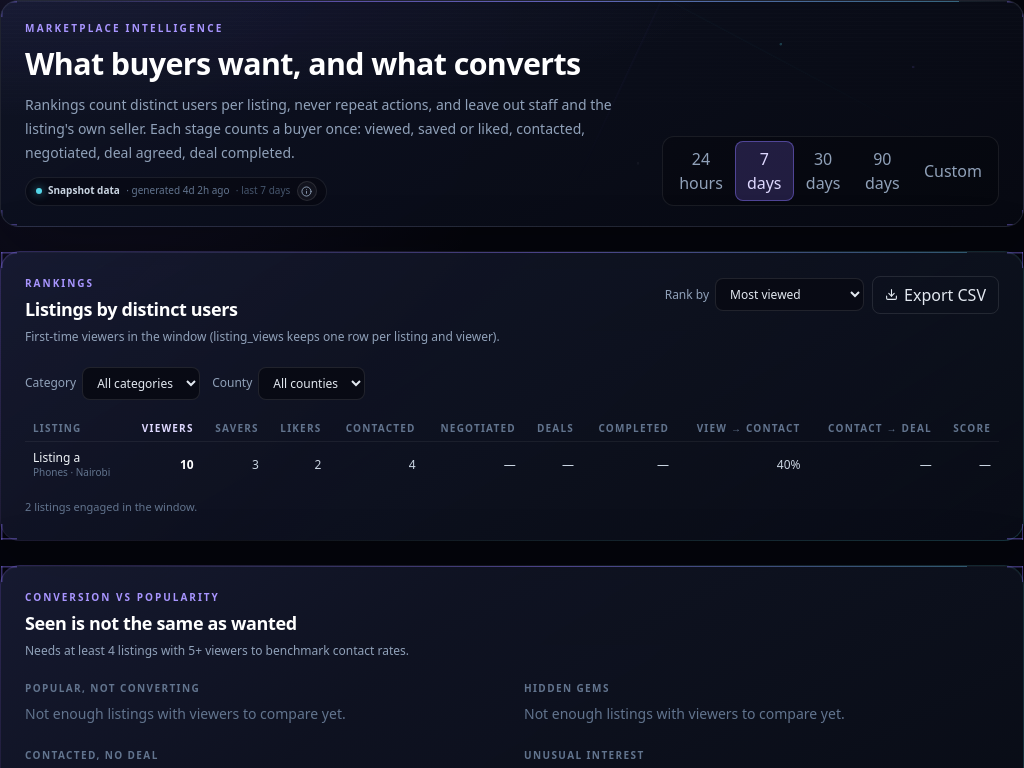
Test: MarketView rankings › says what an older API cannot rank instead of showing an empty list
Select "Most negotiated" in the dropdown named "Ranking". click: coordinates (790, 295)
box: [715, 278, 864, 311]
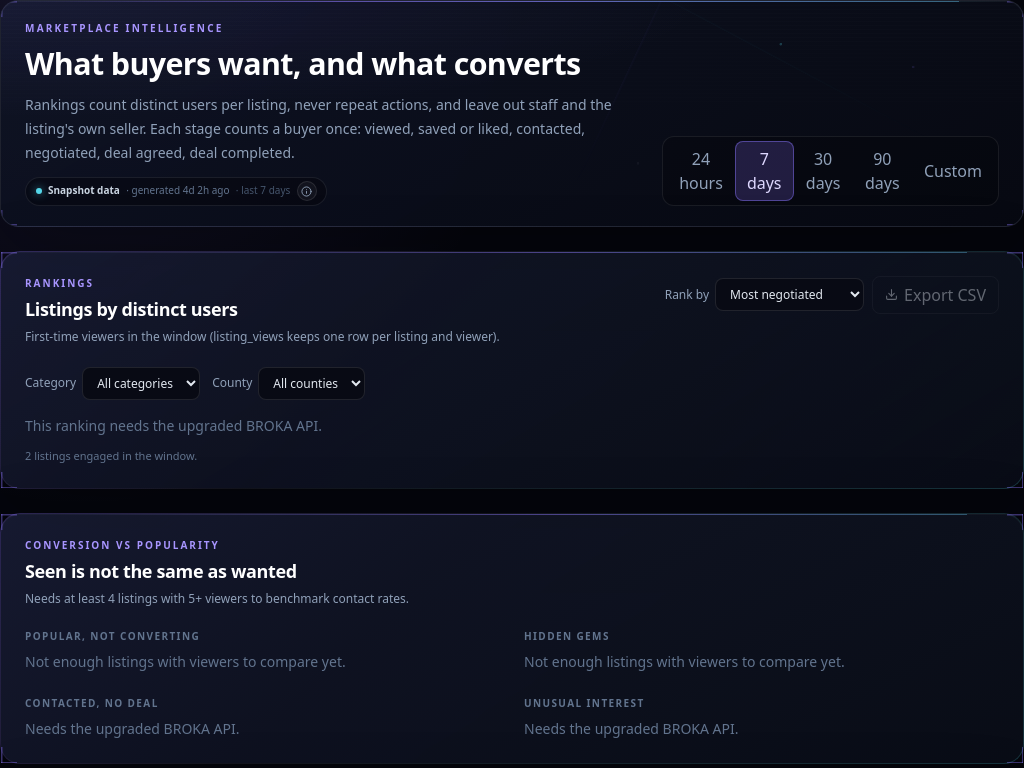
Result: the text "This ranking needs the upgraded BROKA API." is shown at [25, 416, 322, 435]
